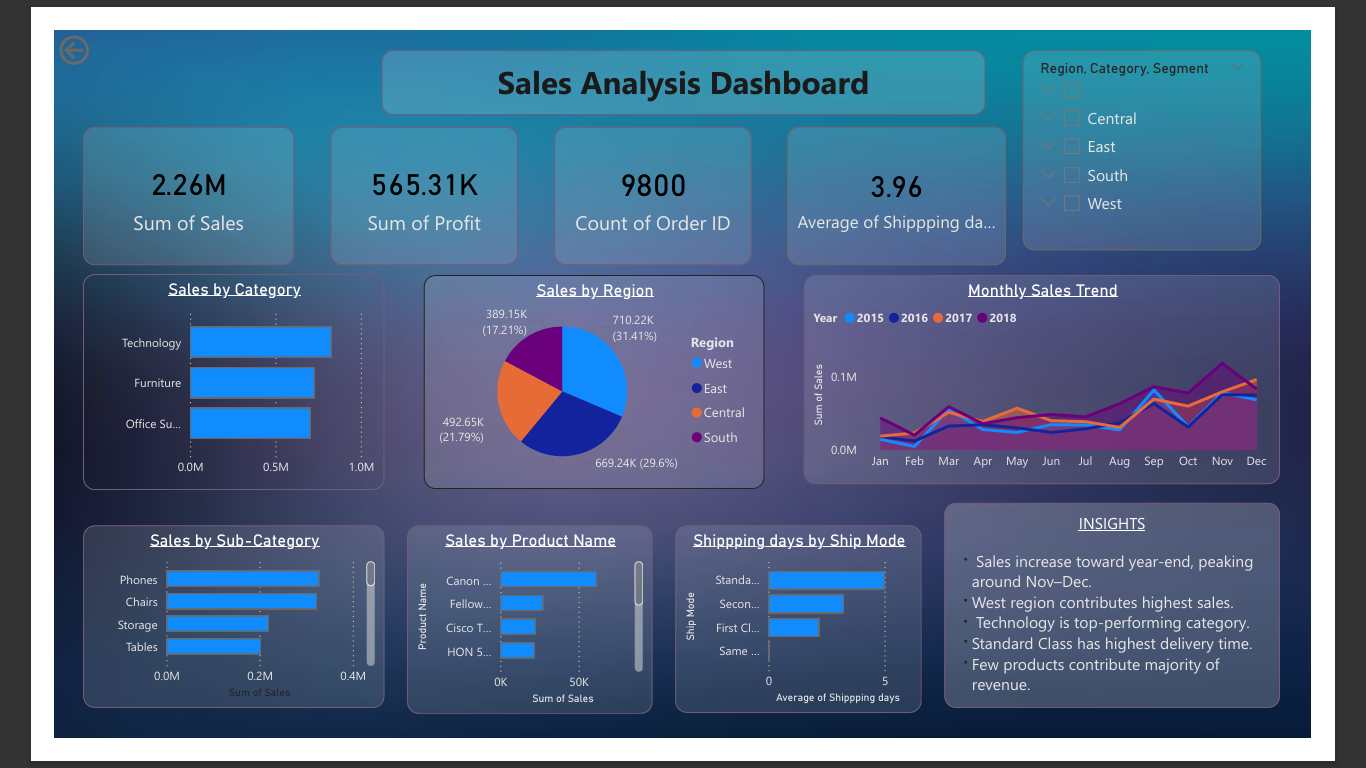

The page's visual inventory and layout, read from the dashboard file:
{"tool":"powerbi","page":{"name":"Page 1","canvas":[1280,720],"ordinal":0},"visuals":[{"type":"card","fields":{"Values":["Sum(sales clean_dataset.Sales)"]},"box":[29.3,98,215.1,140.5],"z":0},{"type":"card","fields":{"Values":["Sum(sales clean_dataset.Profit)"]},"box":[280.6,98,191.7,140.5],"z":1000},{"type":"card","fields":{"Values":["CountNonNull(sales clean_dataset.Order ID)"]},"box":[508.5,98,202,140.5],"z":2000},{"type":"card","fields":{"Values":["Avg(sales clean_dataset.Shippping days)"]},"box":[746.3,98,222.4,140.5],"z":3000},{"type":"actionButton","box":[0,0,100,40],"z":4000},{"type":"clusteredBarChart","title":"Sales by Category","fields":{"Y":["Sum(sales clean_dataset.Sales)"],"Category":["sales clean_dataset.Category"]},"box":[28.8,247.7,306.7,220.3],"z":5000},{"type":"clusteredBarChart","title":"Sales by Sub-Category","fields":{"Category":["sales clean_dataset.Sub-Category"],"Y":["Sum(sales clean_dataset.Sales)"]},"box":[28.8,504,306.7,185.8],"z":6000},{"type":"pieChart","title":"Sales by Region","fields":{"Category":["sales clean_dataset.Region"],"Y":["Sum(sales clean_dataset.Sales)"]},"box":[375.8,249.1,347,217.4],"z":7000},{"type":"lineChart","title":"Monthly Sales Trend","fields":{"Category":["sales clean_dataset.Month name"],"Y":["Sum(sales clean_dataset.Sales)"],"Series":["sales clean_dataset.Year"]},"box":[763.2,249.1,485.3,213.1],"z":8000},{"type":"clusteredBarChart","title":"Sales by Product Name","fields":{"Category":["sales clean_dataset.Product Name"],"Y":["Sum(sales clean_dataset.Sales)"]},"box":[358.6,504,250.6,191.5],"z":9000},{"type":"clusteredBarChart","title":" Shippping days by Ship Mode","fields":{"Y":["Avg(sales clean_dataset.Shippping days)"],"Category":["sales clean_dataset.Ship Mode"]},"box":[632.2,504.5,250.6,190.1],"z":10000},{"type":"slicer","fields":{"Values":["sales clean_dataset.Region","sales clean_dataset.Category","sales clean_dataset.Segment"]},"box":[986.3,20.5,242.9,203.4],"z":11000},{"type":"textbox","box":[332.6,20.2,614.9,66.2],"z":12000},{"type":"textbox","title":"INSIGHTS","box":[905.8,481,342.7,208.8],"z":12001}]}

Visuals, with their boxes in screenshot pixels (x1, y1, x2, y2), scaled from the page's 1280x720 canvas onto the 1366x768 screenshot:
card - Sum(sales clean_dataset.Sales): rect(31, 105, 261, 254)
card - Sum(sales clean_dataset.Profit): rect(299, 105, 504, 254)
card - CountNonNull(sales clean_dataset.Order ID): rect(543, 105, 758, 254)
card - Avg(sales clean_dataset.Shippping days): rect(796, 105, 1034, 254)
actionButton: rect(0, 0, 107, 43)
"Sales by Category" clusteredBarChart: rect(31, 264, 358, 499)
"Sales by Sub-Category" clusteredBarChart: rect(31, 538, 358, 736)
"Sales by Region" pieChart: rect(401, 266, 771, 498)
"Monthly Sales Trend" lineChart: rect(814, 266, 1332, 493)
"Sales by Product Name" clusteredBarChart: rect(383, 538, 650, 742)
" Shippping days by Ship Mode" clusteredBarChart: rect(675, 538, 942, 741)
slicer - sales clean_dataset.Region x sales clean_dataset.Category: rect(1053, 22, 1312, 239)
textbox: rect(355, 22, 1011, 92)
"INSIGHTS" textbox: rect(967, 513, 1332, 736)
